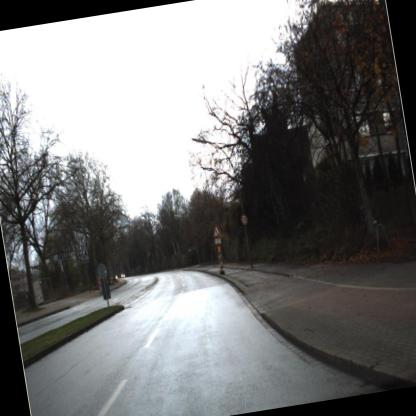danger: (207, 221, 224, 244)
prohibitory: (238, 210, 249, 226)
